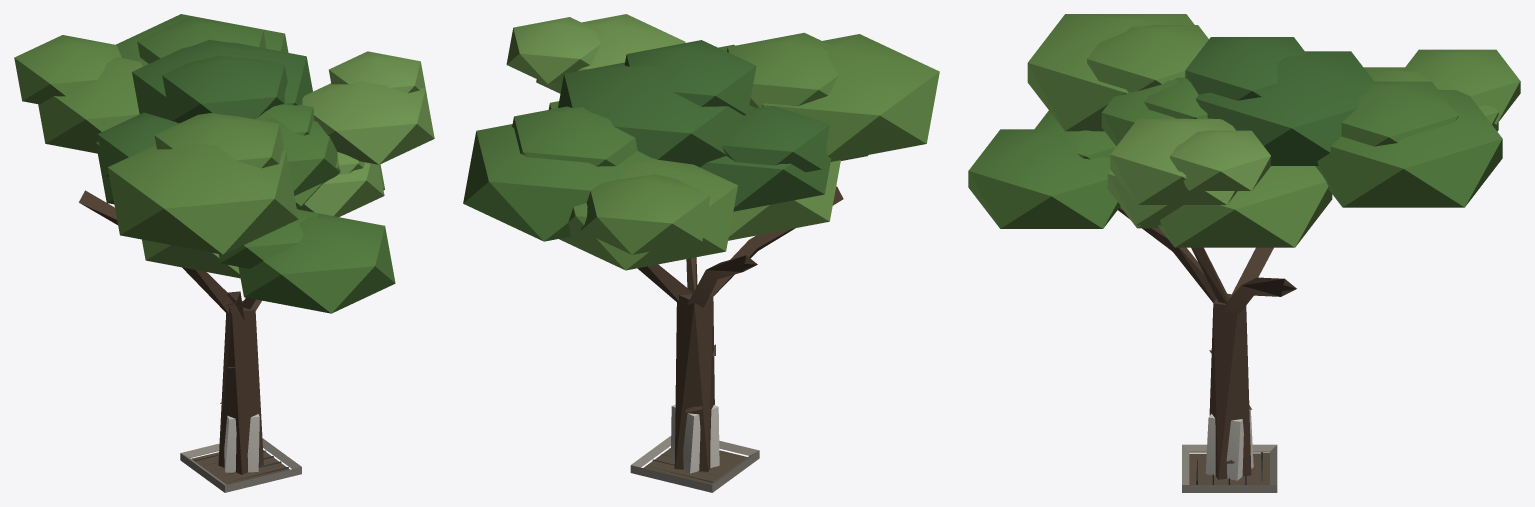
The model's file is cay_me.glb.
3 renders of one model, left to right at view 1: azimuth 30°, elevation 25°; view 2: azimuth 150°, elevation 25°; view 3: azimuth 270°, elevation 25°, orthographic. The views are drawn at different scales.
Parts seen in each view (by area): view 1: cay_me; view 2: cay_me; view 3: cay_me.
Part boxes in pixels (<box>): cay_me: <box>14,14,434,492</box>; cay_me: <box>463,14,939,492</box>; cay_me: <box>968,14,1520,492</box>.
Size of the model in its own units: 5.83 by 6.46 by 7.52.
